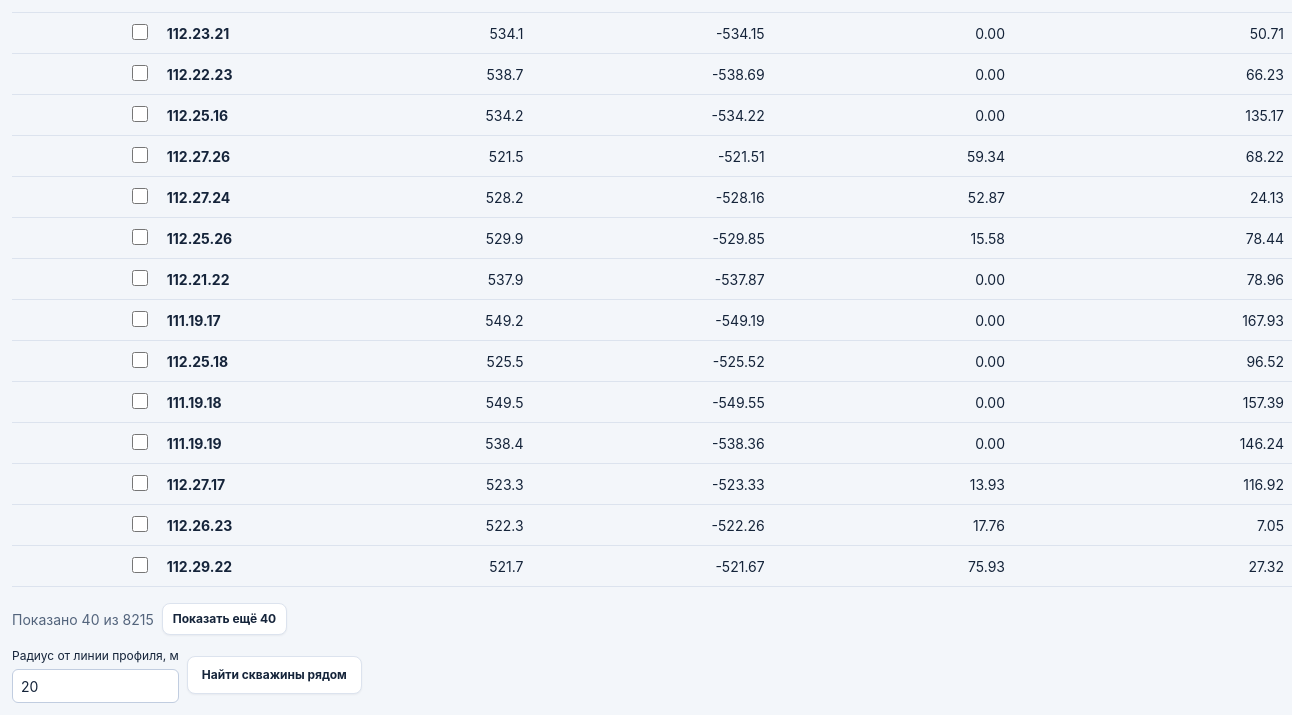
Scenario: selected section setup › invalidates corridor results when the profile changes
(page scrolled)
Click the button "Найти скважины рядом".
click(274, 675)  # box [187, 656, 362, 694]
(page scrolled)
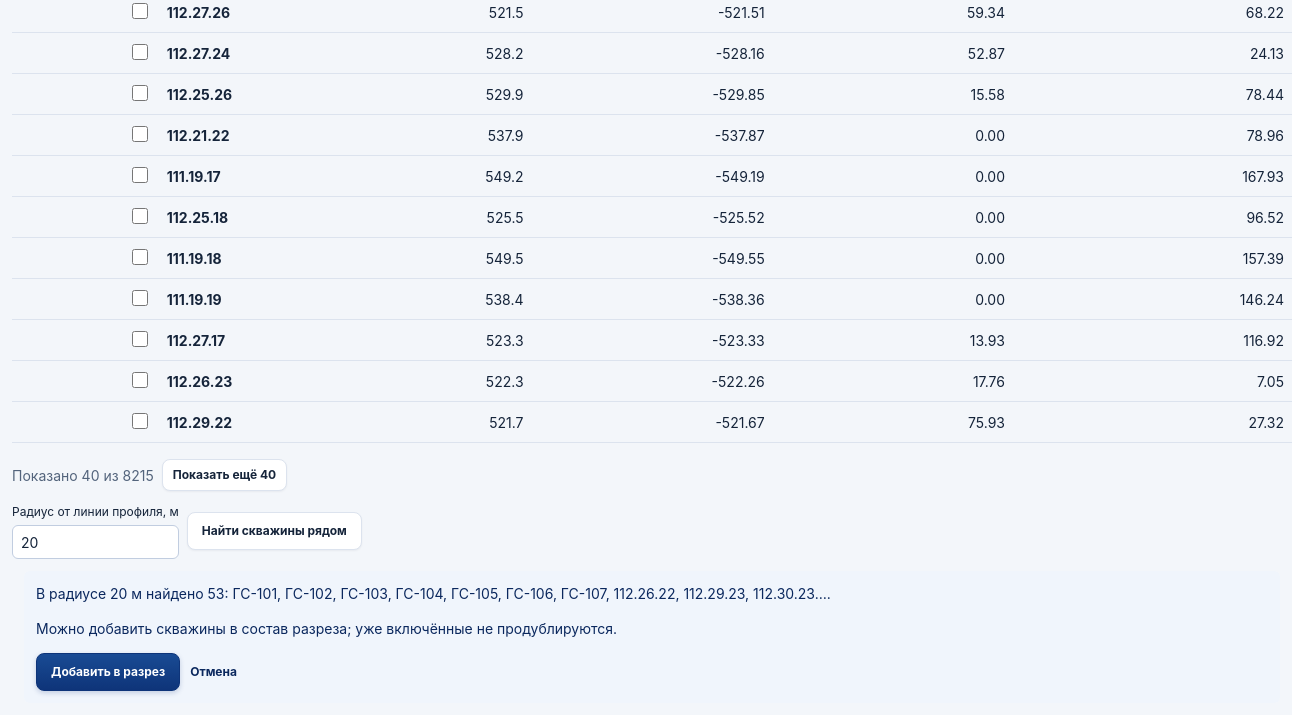
Expected: the button "Добавить в разрез" is shown, [36, 653, 180, 691]
